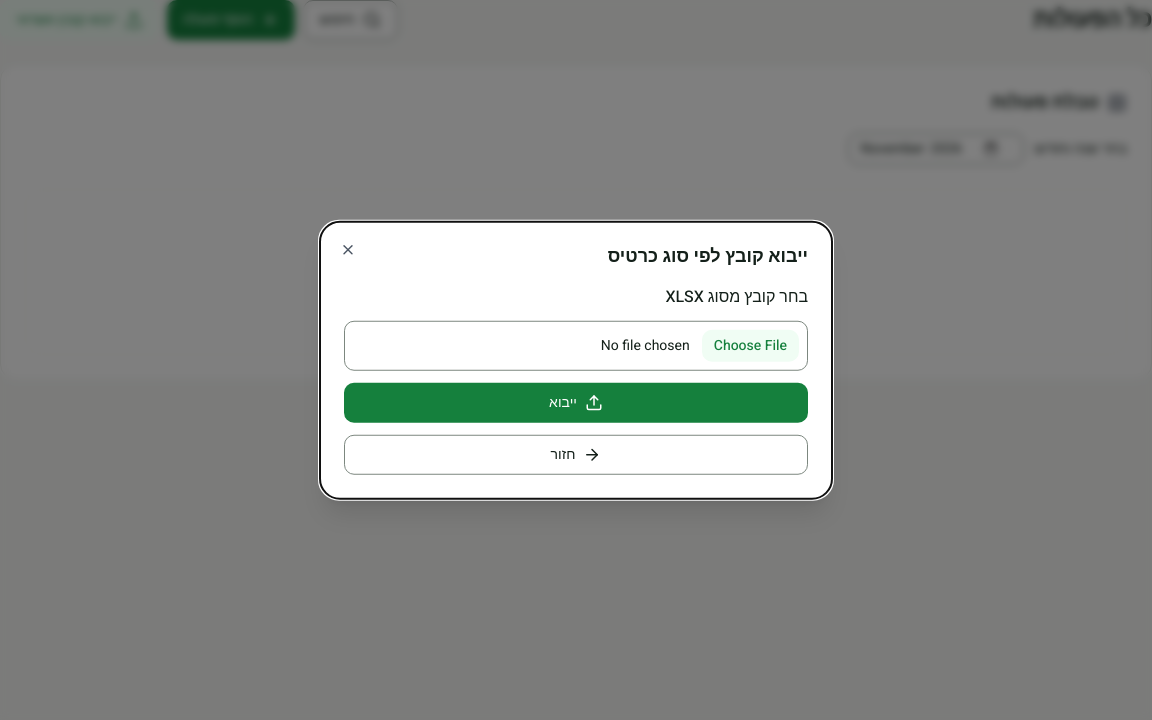
Test: import result › when nothing is written the import is reported as failed
Earlier steps of the test are not shown.
Click the button "ייבוא".
click(576, 402)  # box [344,382,808,422]
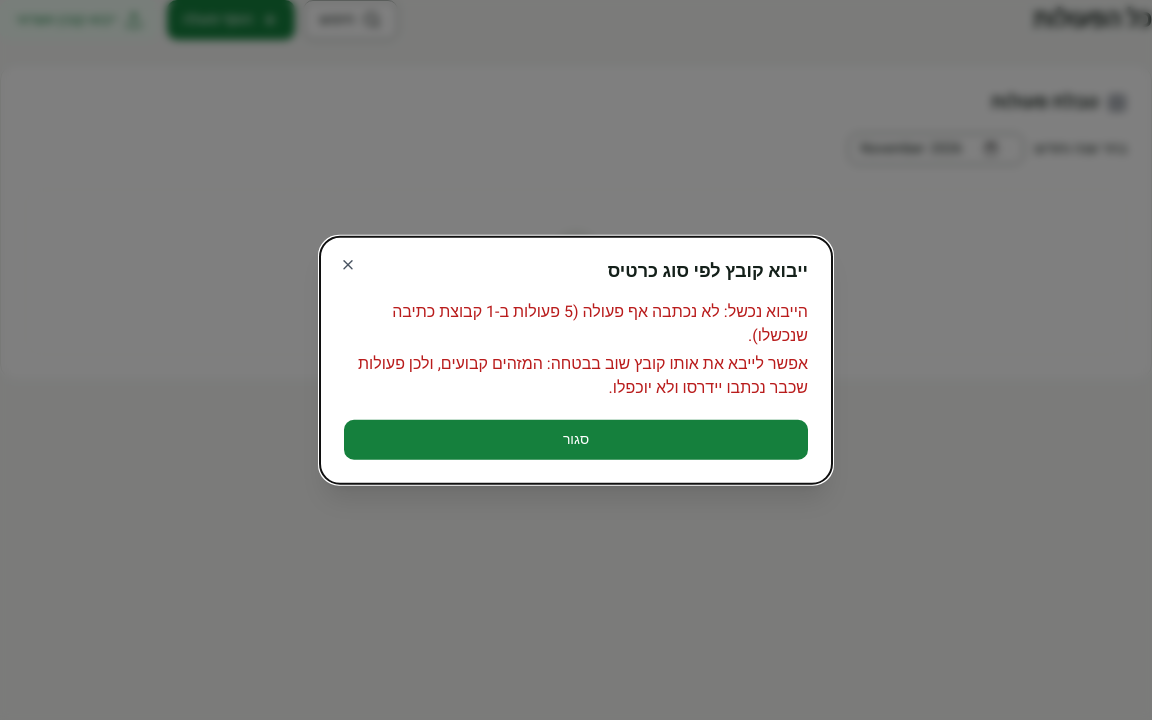
Expected: the message shows "לא נכתבה אף פעולה", [392,299,808,347]
